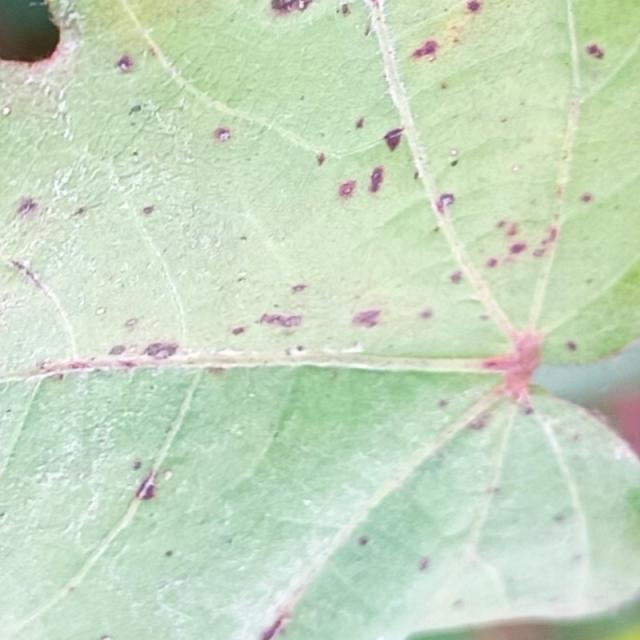Bacterial_Blight: (331, 127, 472, 216), (21, 346, 200, 379), (230, 281, 320, 338), (408, 4, 484, 64), (434, 379, 521, 429), (484, 219, 562, 272), (10, 191, 97, 226), (248, 590, 305, 639), (349, 298, 416, 333), (337, 161, 391, 203), (105, 336, 187, 361), (108, 44, 163, 80), (132, 463, 169, 500), (324, 172, 366, 203), (10, 260, 48, 292), (580, 41, 610, 78), (270, 0, 311, 17), (351, 308, 383, 329), (410, 39, 440, 61), (58, 359, 102, 372), (14, 196, 39, 218), (383, 127, 404, 151), (116, 54, 134, 71), (586, 43, 605, 59), (214, 127, 232, 142), (465, 0, 482, 13), (108, 344, 126, 356), (417, 556, 430, 572), (364, 16, 374, 36), (482, 359, 501, 369), (291, 283, 307, 294), (124, 317, 140, 328), (449, 271, 462, 284), (128, 104, 142, 116), (553, 512, 568, 523), (565, 340, 578, 352), (485, 257, 498, 268), (142, 205, 155, 216), (357, 535, 370, 546), (340, 3, 351, 16), (452, 598, 465, 609), (570, 552, 583, 563), (231, 326, 245, 336), (316, 152, 326, 165), (437, 398, 450, 408), (2, 104, 12, 117), (581, 193, 593, 203), (355, 117, 365, 129), (132, 460, 142, 471), (164, 549, 174, 558), (450, 159, 459, 167), (99, 636, 112, 640)
Cotton: (0, 0, 639, 639)
